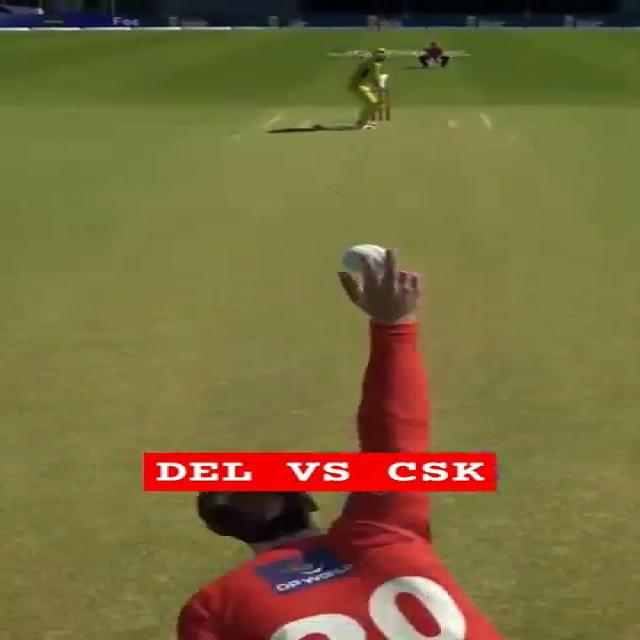ball: (341, 243, 388, 274)
